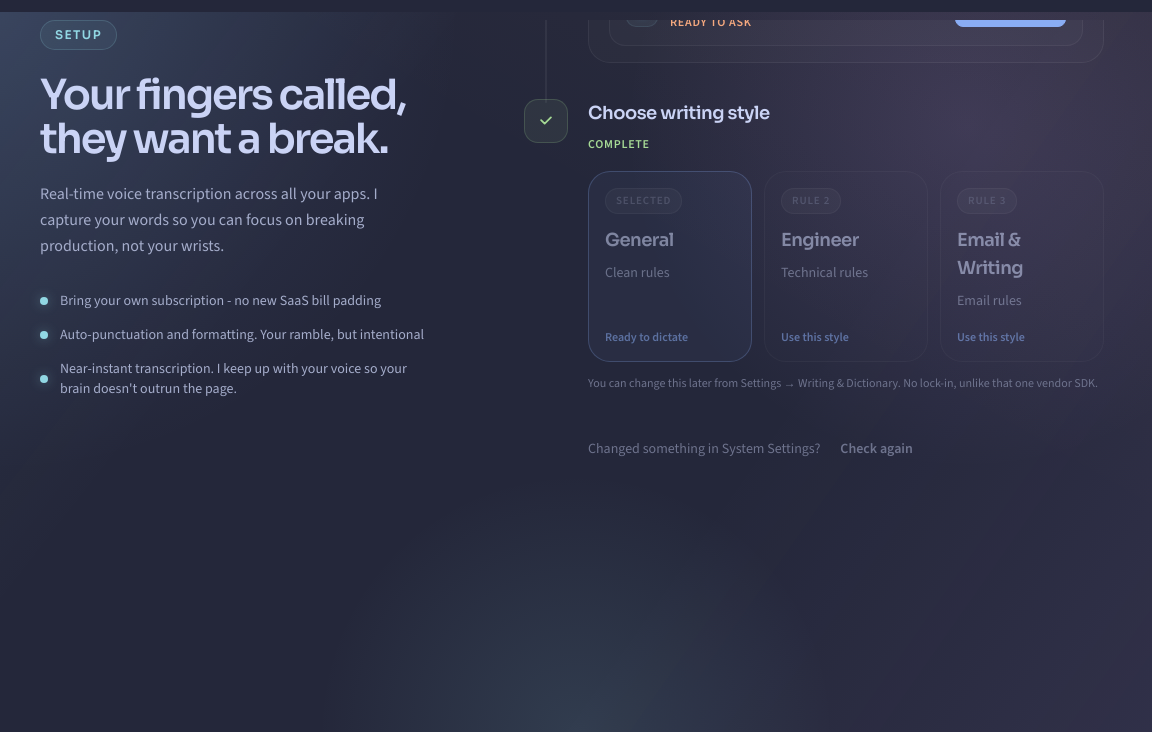
it: HomeApp › keeps onboarding open after a manual refresh completes setup
(page scrolled)
Check: the heading "Your fingers called, they want a break." is shown, box [40, 74, 430, 161]
Click the button "Check again". click: [877, 448]
box: [823, 430, 930, 468]
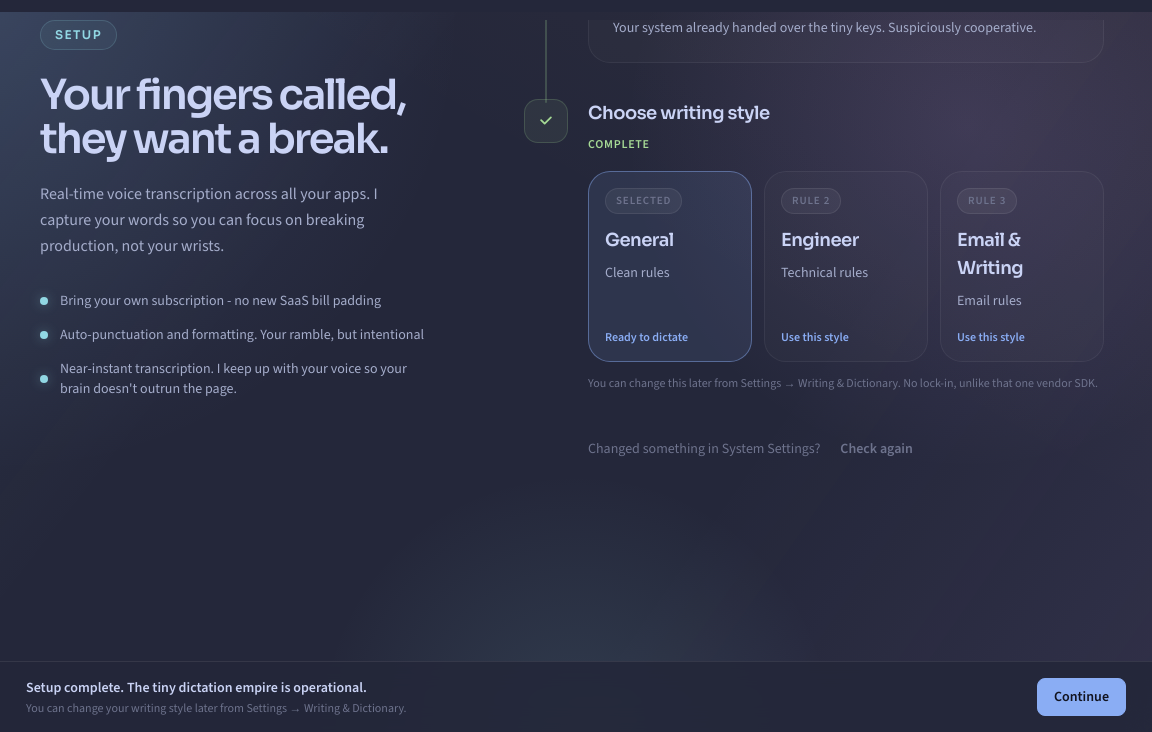
Check: the heading "Your fingers called, they want a break." is shown, box [40, 74, 430, 161]
Check: the button "Continue" is shown, box [1037, 678, 1126, 716]
